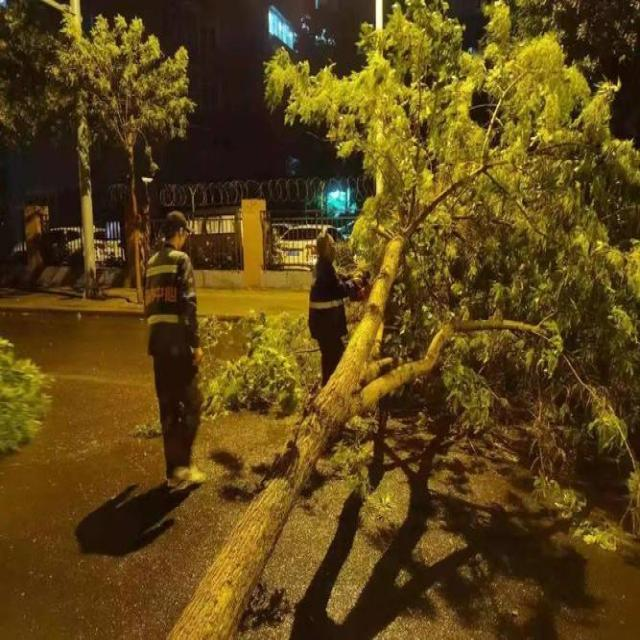fallen_object: (156, 9, 640, 640)
